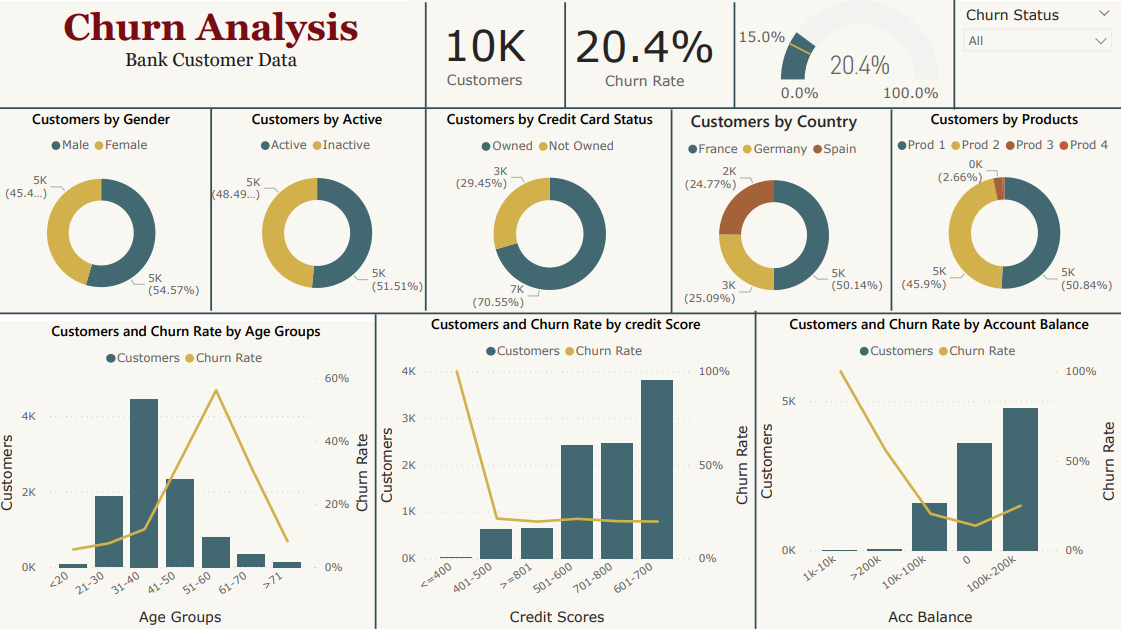

What the dashboard file says about the page in this screenshot:
{"tool":"powerbi","page":{"name":"Page 1","canvas":[1280,720],"ordinal":0},"visuals":[{"type":"card","fields":{"Values":["Customer Data.Customers"]},"box":[471.3,0,169,127.3],"z":0},{"type":"card","fields":{"Values":["Customer Data.Churn Rate"]},"box":[640.3,1.2,195.2,127.3],"z":1000},{"type":"donutChart","fields":{"Category":["Customer Data.Gender"],"Y":["Customer Data.Customers"]},"box":[0,127.6,238.8,231.9],"z":2000},{"type":"donutChart","fields":{"Y":["Customer Data.Customers"],"Category":["Customer Data.Active"]},"box":[238.8,127.6,252.5,231.9],"z":3000},{"type":"donutChart","fields":{"Y":["Customer Data.Customers"],"Category":["Customer Data.Credit Card Status"]},"box":[491.3,129,277.2,231.9],"z":4000},{"type":"donutChart","fields":{"Y":["Customer Data.Customers"],"Category":["Customer Data.Country"]},"box":[750.6,129,267.6,231.9],"z":5000},{"type":"donutChart","fields":{"Y":["Customer Data.Customers"],"Category":["Customer Data.Products"]},"box":[1012.7,127.6,267.6,231.9],"z":6000},{"type":"lineClusteredColumnComboChart","title":"Customers and Churn Rate by Age Groups","fields":{"Y":["Customer Data.Customers"],"Y2":["Customer Data.Churn Rate"],"Category":["Age Groups.Age Groups"]},"box":[0,370.1,432,349.9],"z":7000},{"type":"lineClusteredColumnComboChart","title":"Customers and Churn Rate by credit Score","fields":{"Y":["Customer Data.Customers"],"Y2":["Customer Data.Churn Rate"],"Category":["Credit Score Groups.Credit Scores"]},"box":[432,361.8,432,358.2],"z":8000},{"type":"lineClusteredColumnComboChart","title":"Customers and Churn Rate by Account Balance","fields":{"Y":["Customer Data.Customers"],"Y2":["Customer Data.Churn Rate"],"Category":["Acc Balance Groups.Acc Balance"]},"box":[864,361.8,416.5,358.2],"z":9000},{"type":"slicer","fields":{"Values":["Customer Data.Churn Status"]},"box":[1090.1,6,189.2,121.4],"z":10000},{"type":"gauge","fields":{"Y":["Customer Data.Churn Rate"],"MinValue":["Min(Customer Data.Min Churn Rate)"],"MaxValue":["Max(Customer Data.Max Churn Rate)"],"TargetValue":["Max(Customer Data.Target Churn Rate)"]},"box":[822,0,267.6,129],"z":11000},{"type":"textbox","box":[0,6,489.1,122.6],"z":12000},{"type":"shape","box":[471.3,7.1,34.5,121.4],"z":13000},{"type":"shape","box":[629.6,7.1,34.5,120.2],"z":14000},{"type":"shape","box":[822.3,7.1,34.5,120.2],"z":15000},{"type":"shape","box":[1072.3,0,34.5,128.5],"z":16000},{"type":"shape","box":[0,111.9,1279.3,30.9],"z":17000},{"type":"shape","box":[227.3,127.3,34.5,230.9],"z":18000},{"type":"shape","box":[471.3,128.5,34.5,229.7],"z":19000},{"type":"shape","box":[750.9,128.5,34.5,232.1],"z":20000},{"type":"shape","box":[1000.9,128.5,34.5,229.7],"z":21000},{"type":"shape","box":[0,340.4,1279.3,41.7],"z":22000},{"type":"shape","box":[414.1,361.8,34.5,358.2],"z":23000},{"type":"shape","box":[846.1,358.2,34.5,361.8],"z":24000}]}

Visuals, with their boxes in screenshot pixels (x1, y1, x2, y2), scaled from the page's 1280x720 canvas onto the 1121x631 screenshot:
card - Customer Data.Customers: locate(413, 0, 561, 112)
card - Customer Data.Churn Rate: locate(561, 1, 732, 113)
donutChart - Customer Data.Gender x Customer Data.Customers: locate(0, 112, 209, 315)
donutChart - Customer Data.Customers x Customer Data.Active: locate(209, 112, 430, 315)
donutChart - Customer Data.Customers x Customer Data.Credit Card Status: locate(430, 113, 673, 316)
donutChart - Customer Data.Customers x Customer Data.Country: locate(657, 113, 892, 316)
donutChart - Customer Data.Customers x Customer Data.Products: locate(887, 112, 1120, 315)
"Customers and Churn Rate by Age Groups" lineClusteredColumnComboChart: locate(0, 324, 378, 630)
"Customers and Churn Rate by credit Score" lineClusteredColumnComboChart: locate(378, 317, 757, 630)
"Customers and Churn Rate by Account Balance" lineClusteredColumnComboChart: locate(757, 317, 1120, 630)
slicer - Customer Data.Churn Status: locate(955, 5, 1120, 112)
gauge - Customer Data.Churn Rate x Min(Customer Data.Min Churn Rate): locate(720, 0, 954, 113)
textbox: locate(0, 5, 428, 113)
shape: locate(413, 6, 443, 113)
shape: locate(551, 6, 582, 112)
shape: locate(720, 6, 750, 112)
shape: locate(939, 0, 969, 113)
shape: locate(0, 98, 1120, 125)
shape: locate(199, 112, 229, 314)
shape: locate(413, 113, 443, 314)
shape: locate(658, 113, 688, 316)
shape: locate(877, 113, 907, 314)
shape: locate(0, 298, 1120, 335)
shape: locate(363, 317, 393, 630)
shape: locate(741, 314, 771, 630)
